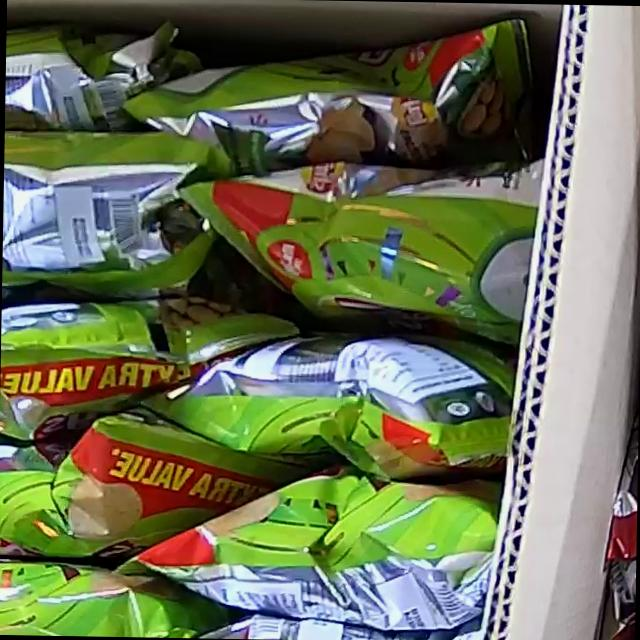yogurt: (0, 6, 542, 640)
